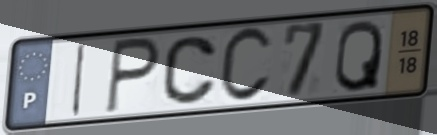7: (282, 21, 328, 102)
C: (216, 24, 275, 107), (160, 33, 219, 107)
I: (68, 40, 89, 119)
P: (102, 35, 163, 117)
Q: (331, 17, 385, 95)
